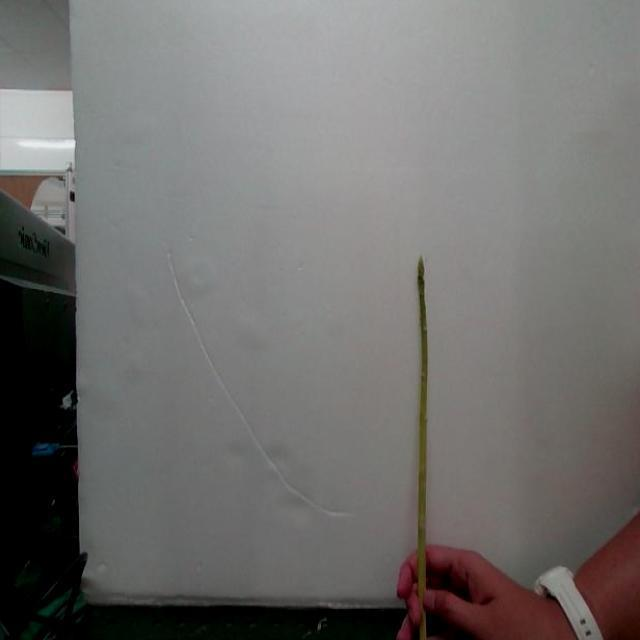aspargus: (413, 258, 430, 640)
